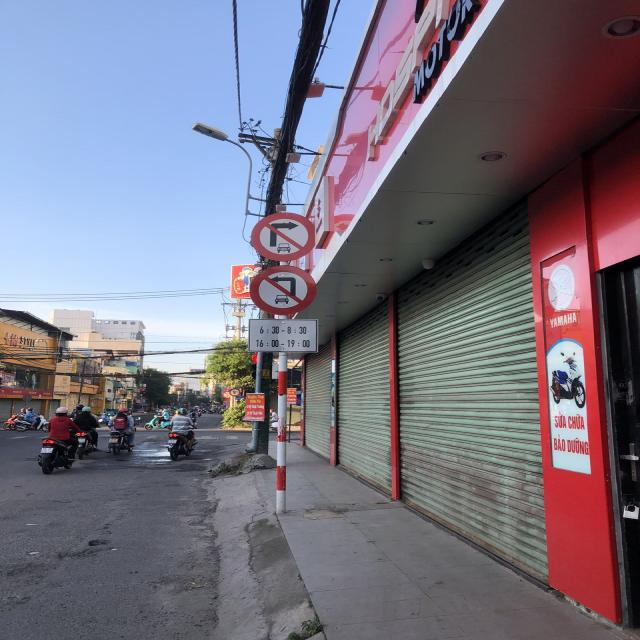Bien bao cam xe o to re phai: (245, 208, 322, 262)
Bien bao cam xe o to re trai: (244, 262, 318, 317)
